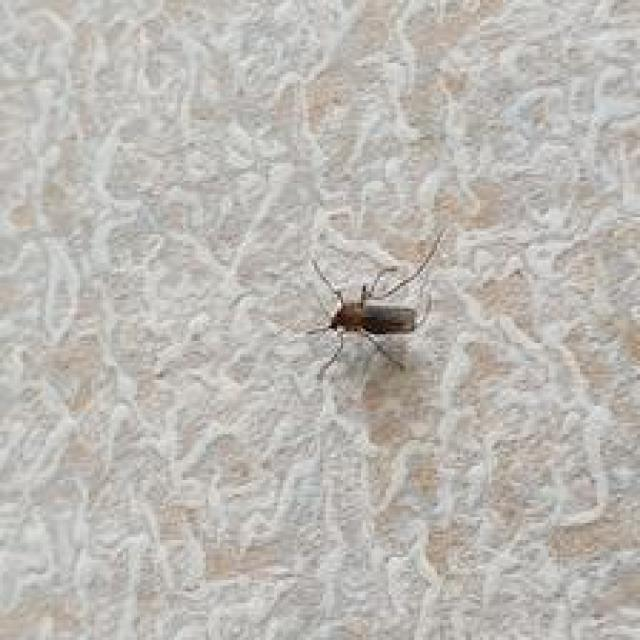Culex: (304, 226, 447, 383)
